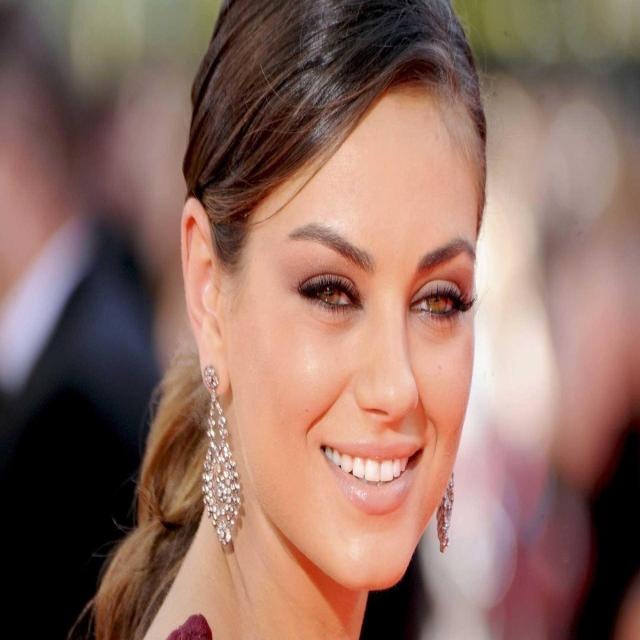no-earmuff: (179, 197, 229, 396)
